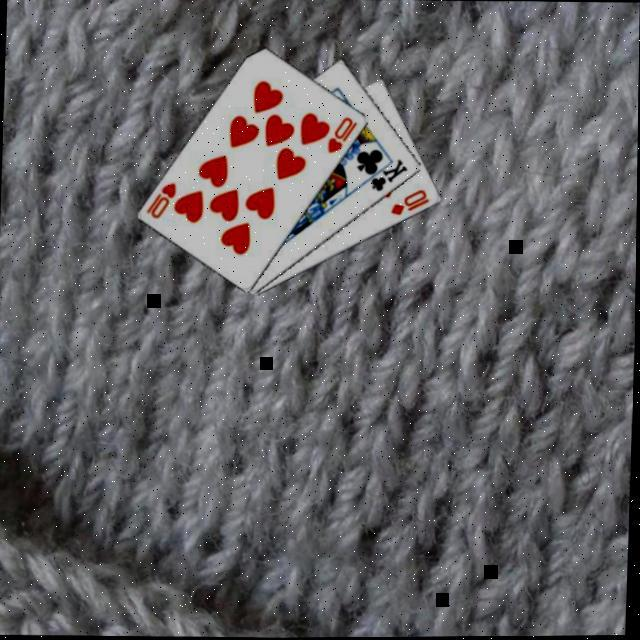10D: (389, 184, 434, 217)
10H: (326, 112, 362, 155), (144, 177, 180, 220)
KC: (361, 153, 412, 192)
